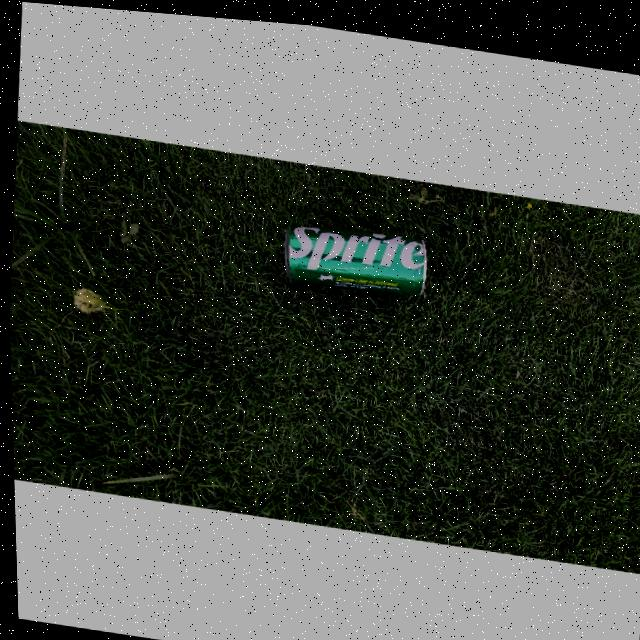Sprite: (280, 208, 430, 293)
